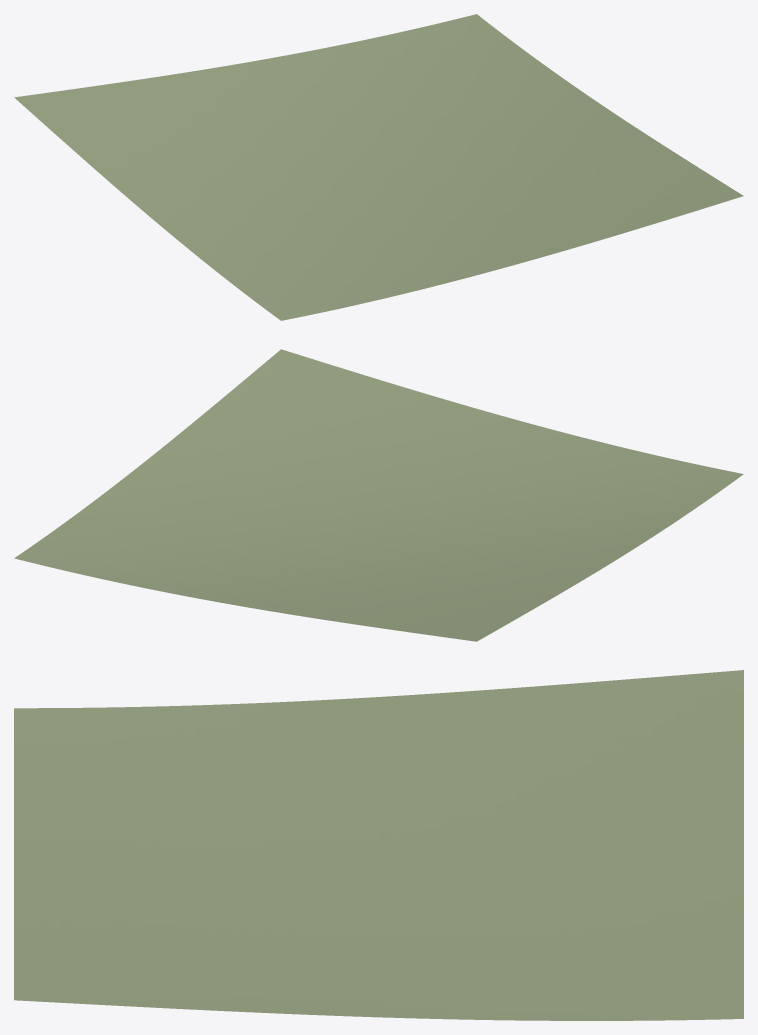
The model's file is alpine-1-14.glb.
3 views of the same model, one above another, from view 1: azimuth 30°, elevation 25°; view 2: azimuth 150°, elevation 25°; view 3: azimuth 270°, elevation 25° (orthographic). The views are drawn at different scales.
Visible parts, largest first — view 1: alpine-1-14; view 2: alpine-1-14; view 3: alpine-1-14.
Part boxes in pixels (<box>): alpine-1-14: <box>14,14,743,320</box>; alpine-1-14: <box>14,349,743,641</box>; alpine-1-14: <box>14,670,743,1020</box>.
Size of the model in its own units: 256 by 18.26 by 256.
